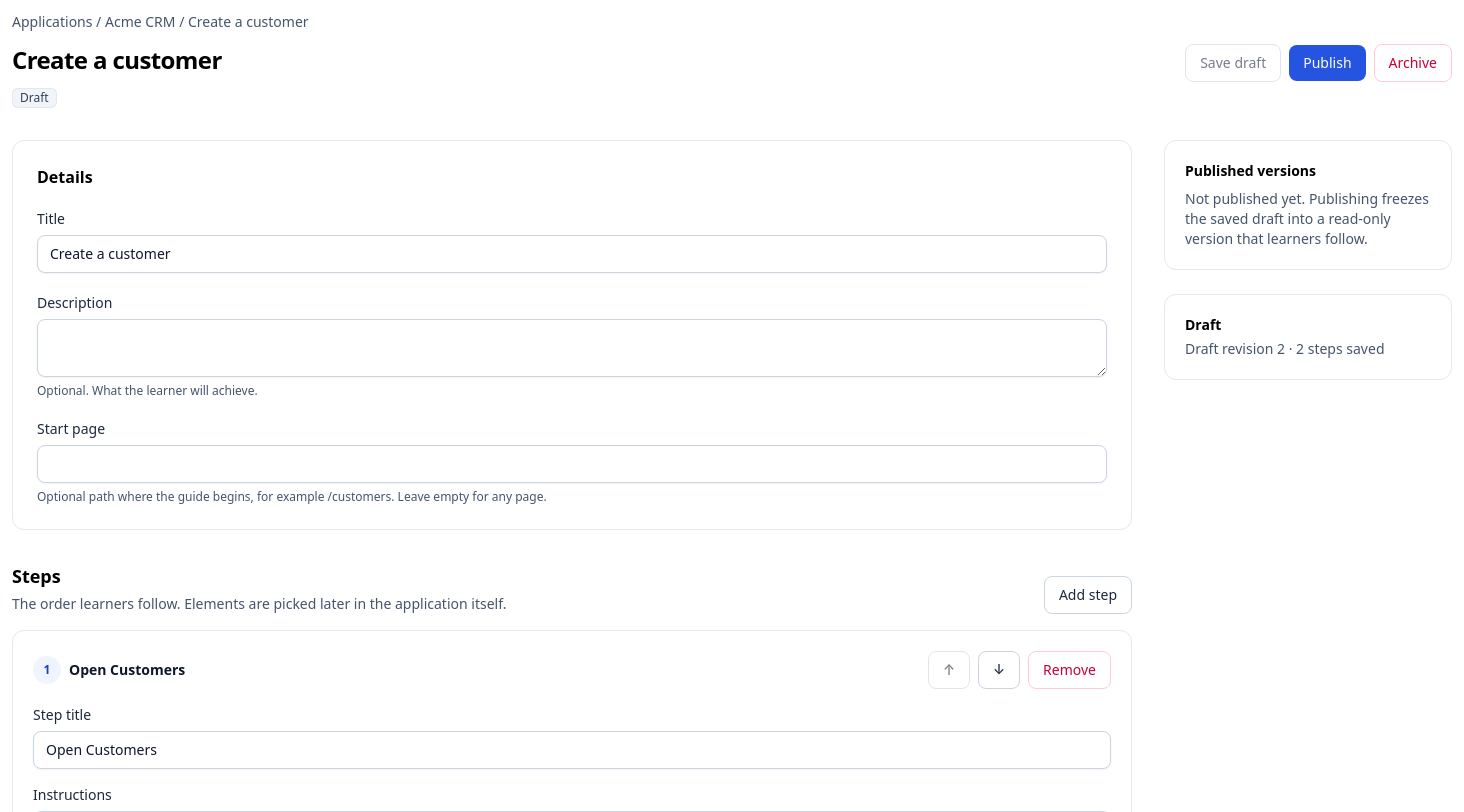
Scenario: GuideEditorPage › publishes the saved draft and explains the snapshot
Click the button with test id "publish". click: coordinates (1327, 63)
box: x1=1289 y1=45 x2=1366 y2=81
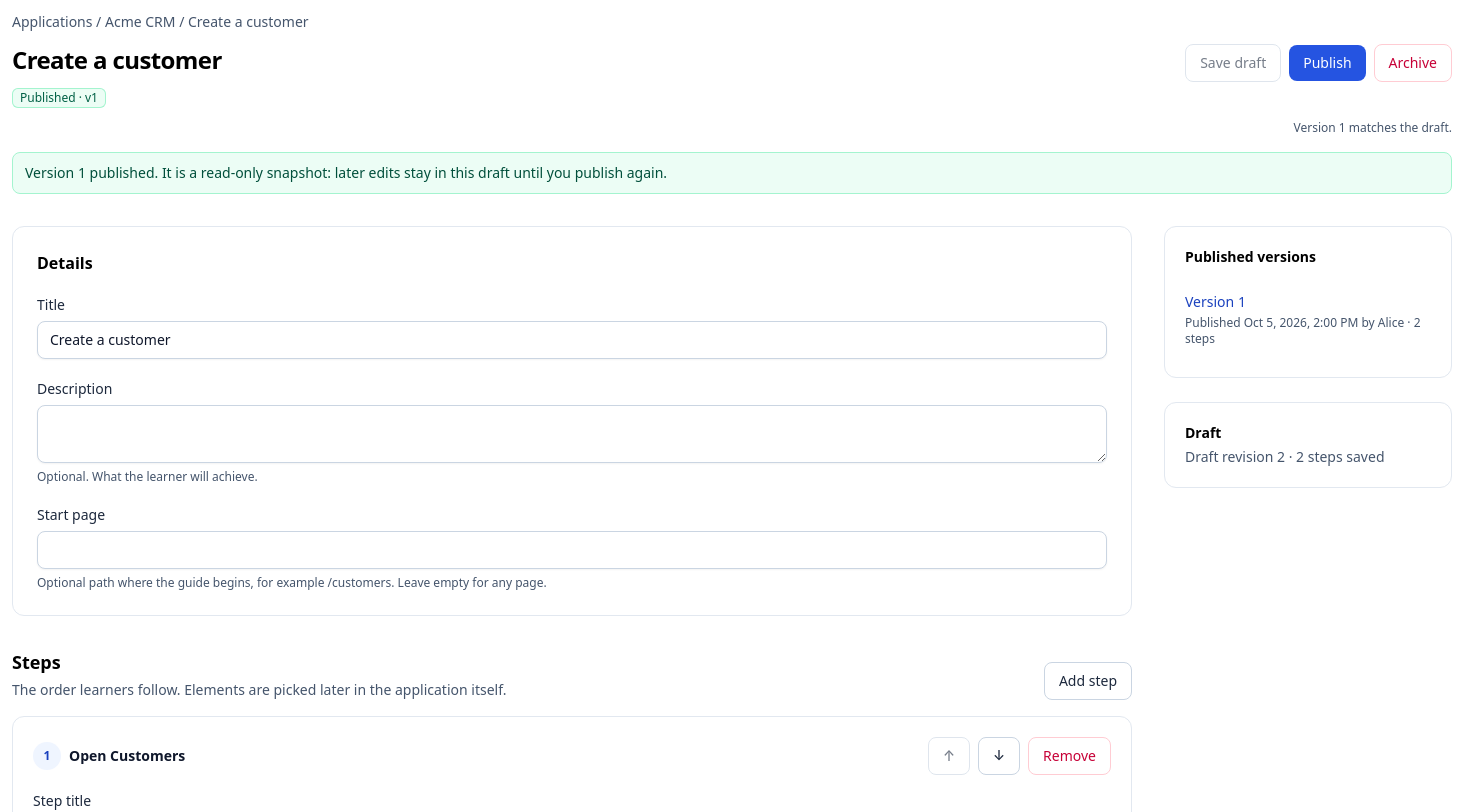
Expected: the text with test id "notice" shows "Version 1 published. It is a read-only snapshot", x1=25 y1=163 x2=667 y2=182
Expected: the text with test id "guide-status" reads "Published · v1", x1=20 y1=89 x2=98 y2=106
Expected: the list item with test id "version-item" shows "Version 1", x1=1185 y1=292 x2=1246 y2=311
